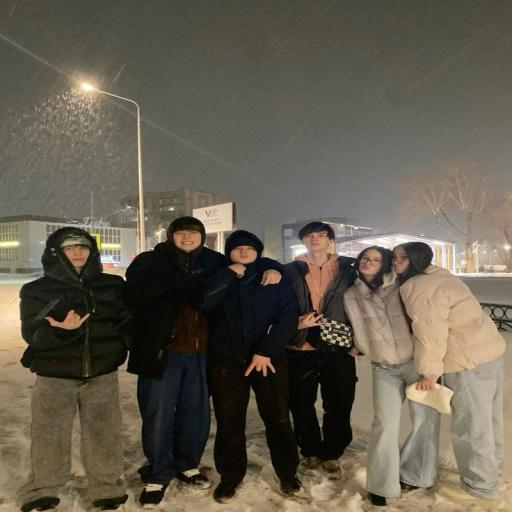hole: (12, 210, 512, 512)
laptop: (15, 224, 128, 512)
